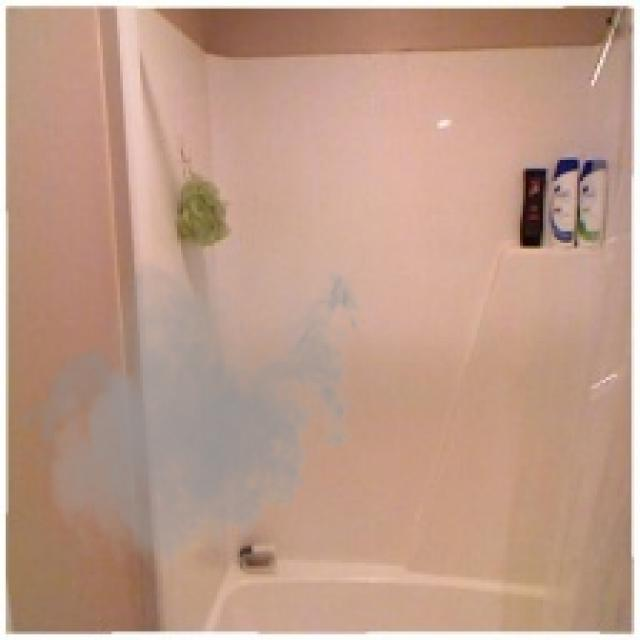Smoke: (17, 208, 372, 586)
